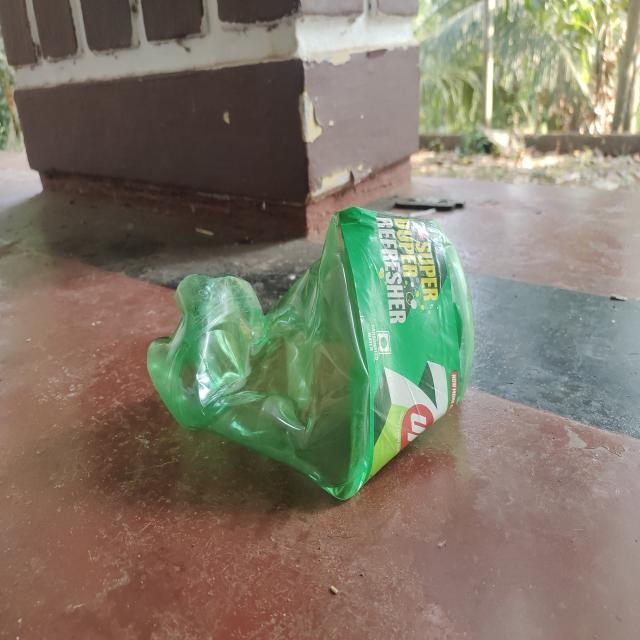plastic: (142, 199, 483, 505)
